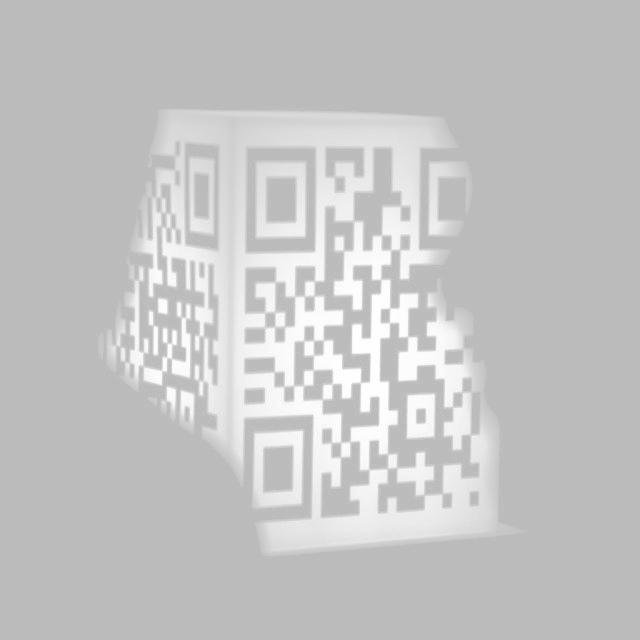qr_code: (242, 146, 481, 522), (102, 140, 219, 449)
